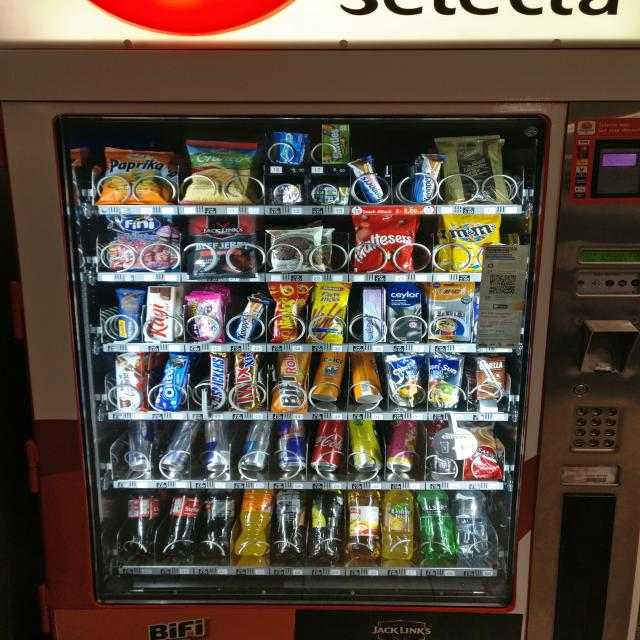7days_croissantschoko_packung_80_1_0000000000003: (464, 421, 505, 480)
airwaves_menthoneucalyptus_riegel_14_1_50173167: (276, 130, 306, 164)
berger_schoggitoertli____: (266, 224, 327, 273)
bifi_roll__50__4251097402635: (271, 350, 308, 412)
bueno___43__4008400320328: (113, 350, 148, 410)
c-swiss_dosenabisicetea__33__9120025930135: (313, 350, 350, 403), (350, 351, 385, 403)
caprisun_multivitamin__20__4000177605004: (386, 350, 429, 406), (428, 351, 464, 405)
coke__dose_33__54491472: (310, 418, 345, 473)
coke__flasche_50__54491472: (163, 488, 202, 554), (126, 487, 160, 555)
coke_zero_flasche_50__5449000131836: (200, 486, 238, 556)
comella_schokodrink__33__7613100037253: (472, 356, 511, 405)
fanta___50__40822938: (235, 486, 275, 557)
fini_galaxymix_packung_100_1_8410525150364: (102, 214, 171, 270)
fini_jellykisses_packung_80_1_8410525116704: (189, 293, 222, 341)
fuse_lemon__50__5449000235947: (309, 488, 346, 560)
fuse_lemon_dose_33__5449000235947: (348, 420, 383, 474)
fuse_peach__50__5449000236623: (274, 487, 308, 558)
jacklinks_beefjerkyorginal__25__4047751730219: (183, 212, 260, 280)
jlbrichard_gauffrechoko__90__5410495002079: (439, 138, 510, 202)
kagi___50__7610046000259: (140, 284, 180, 343)
knoppers_riegel____4035800488808: (226, 296, 271, 340), (349, 156, 391, 203), (410, 152, 444, 203)
lorenz_nicnacs__40__4018077798818: (267, 280, 304, 342)
malburner_partysticks__40__7610200279682: (308, 280, 347, 342)
maltesers___100__5000159023061: (349, 212, 419, 274)
mnms_gelb__45__40111445: (443, 211, 504, 270)
oreo___66__84100733: (151, 351, 189, 408)
powerbar_proteinplusschoko__55__4029679520028: (113, 288, 143, 340)
ramseier_schorle__50__7610057012456: (348, 489, 385, 560)
redbull___33__90162909: (160, 420, 200, 471), (202, 420, 236, 472), (276, 418, 308, 471), (125, 418, 156, 469)
redbull_light__33__90162800: (238, 419, 270, 470)
skittles_sour_riegel_51_1_: (318, 122, 348, 164)
snickers___50__5000159461122: (206, 348, 229, 408)
stimorol_spearmint_riegel_14_1_: (308, 182, 347, 206)
stimorol_wildcherry_riegel_14_1_57060330: (270, 182, 304, 204)
tiki_himbeerbrause_dose_33_1_: (388, 420, 418, 472)
twix___50__5000159459228: (233, 351, 263, 410)
valser_classic__50__76404160: (416, 489, 456, 557)
valser_still__50__7610335002575: (456, 490, 492, 564)
volvic_pinapple__50__305764335648: (385, 489, 418, 561)
zweifel_graneochilli__100__7610095184009: (182, 137, 257, 204)
zweifel_paprika__90__7610095013002: (97, 144, 173, 202)
